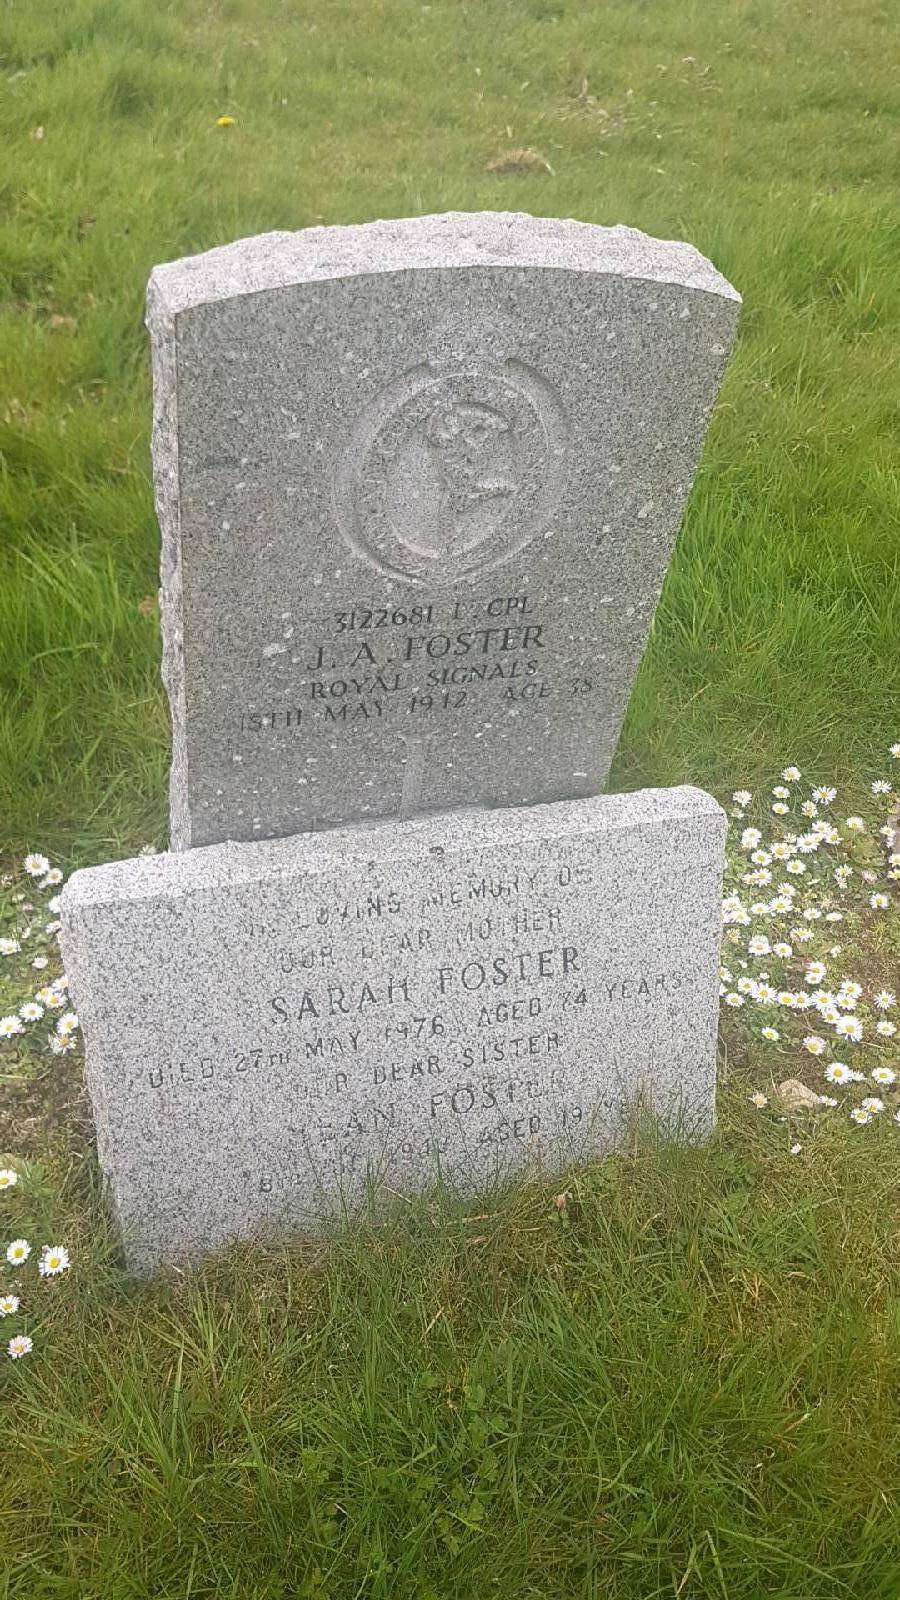upright: (52, 214, 738, 1271)
